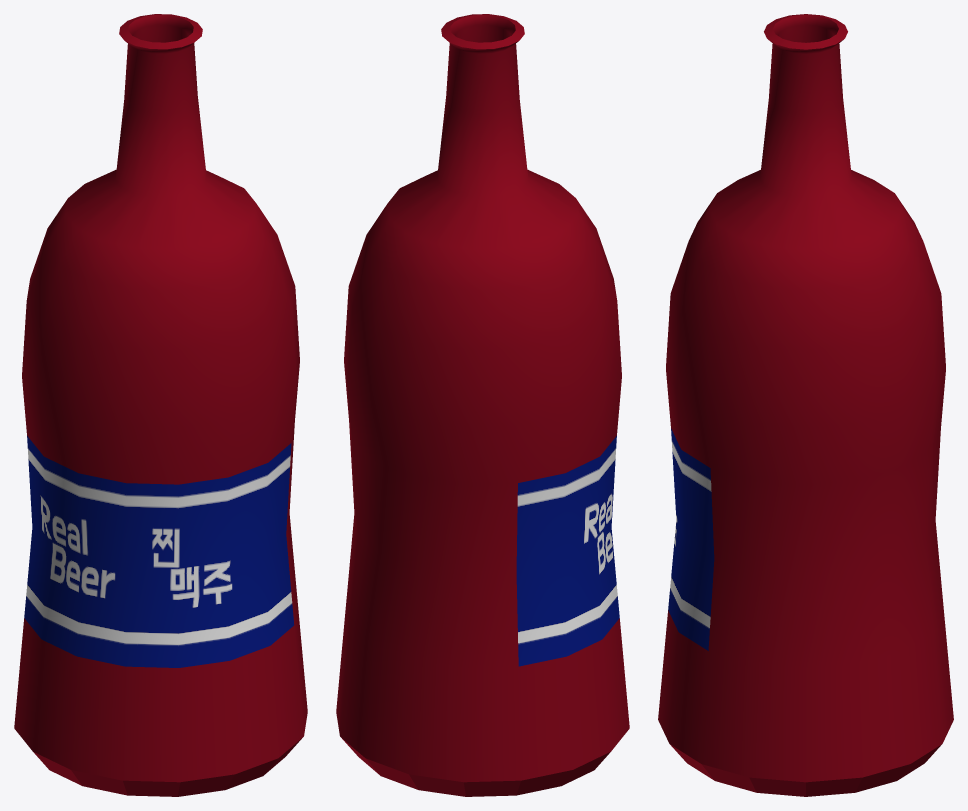
Rendered from Beer.fbx.
3 views of the same model, side by side, from view 1: azimuth 30°, elevation 25°; view 2: azimuth 150°, elevation 25°; view 3: azimuth 270°, elevation 25° (orthographic).
Visible parts, largest first — view 1: Beer; view 2: Beer; view 3: Beer.
Part boxes in pixels (box(x1,y1,x2,y2)): Beer: box(14, 14, 307, 796); Beer: box(336, 14, 629, 796); Beer: box(658, 14, 953, 796).
Size of the model in its own units: 1.61 by 4.27 by 1.61.
Materials: 3 (3 with a texture image).
